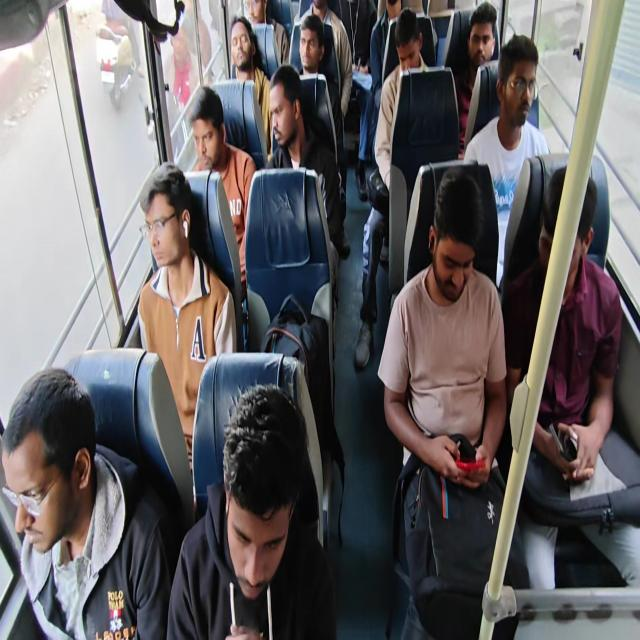person: (0, 369, 114, 640), (211, 418, 347, 640), (413, 174, 517, 399), (520, 151, 594, 331), (136, 163, 196, 308), (186, 90, 247, 190), (274, 72, 311, 176), (462, 2, 507, 74), (398, 14, 433, 100), (345, 0, 381, 75), (226, 9, 266, 72), (298, 19, 332, 89), (499, 38, 522, 135), (301, 0, 349, 33), (243, 0, 280, 32), (378, 0, 408, 27)
